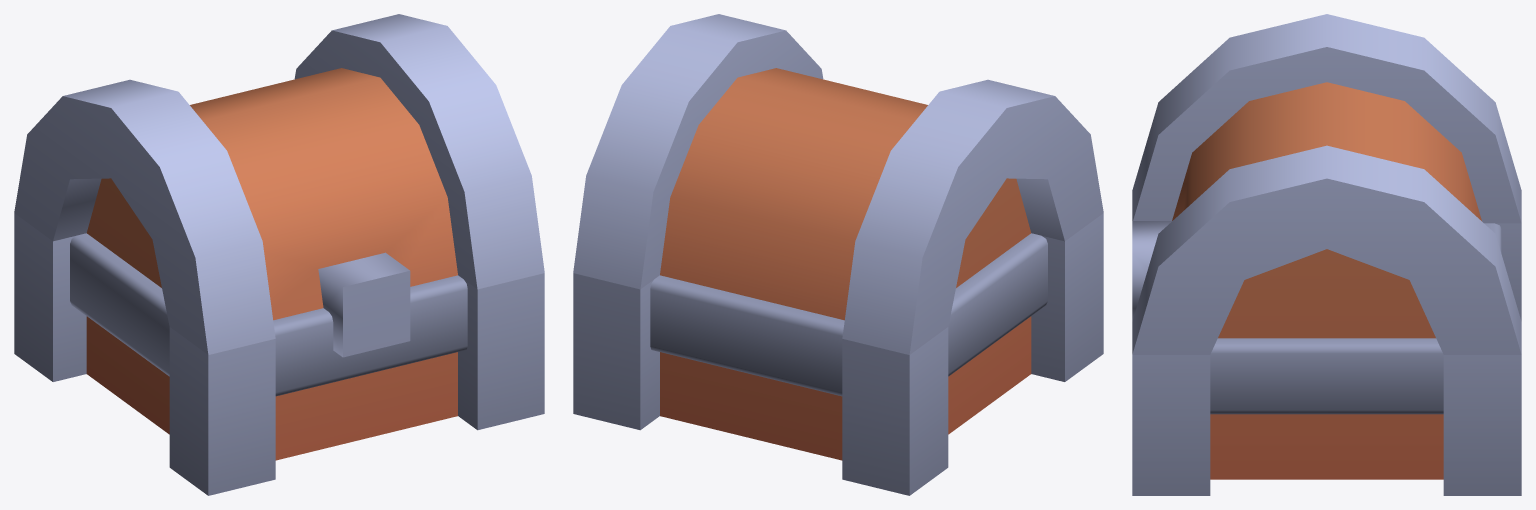
The model's file is chest.glb.
The picture shows the model from 3 angles, left to right: view 1: azimuth 30°, elevation 25°; view 2: azimuth 150°, elevation 25°; view 3: azimuth 270°, elevation 25°; orthographic projection.
Parts seen in each view (by area): view 1: lid, chest; view 2: lid, chest; view 3: lid, chest.
Boxes of the visible parts, x1=… form: lid: x1=14, y1=14, x2=544, y2=357; chest: x1=14, y1=213, x2=544, y2=495; lid: x1=573, y1=14, x2=1103, y2=354; chest: x1=573, y1=213, x2=1103, y2=495; lid: x1=1132, y1=14, x2=1521, y2=354; chest: x1=1132, y1=223, x2=1521, y2=495.
Bounding box in the file's own units: 0.5 × 0.45 × 0.5.
Materials: 1 (1 with a texture image).
